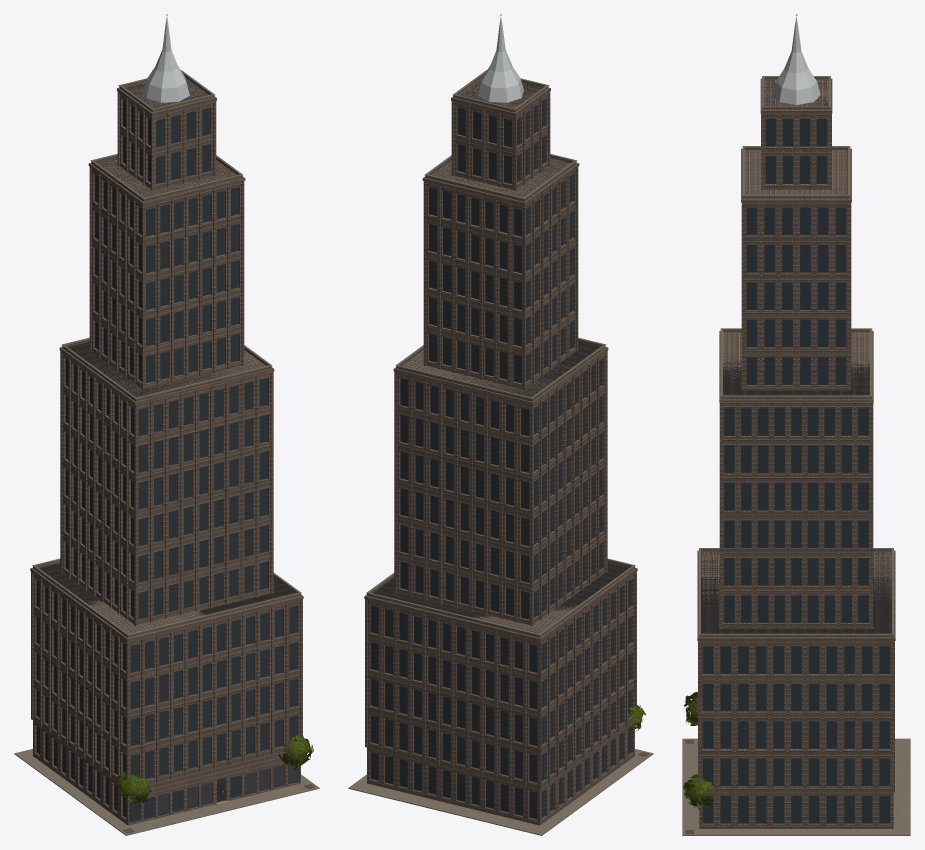
Rendered from sky_deco.glb.
3 views of the same model, side by side, from view 1: azimuth 30°, elevation 25°; view 2: azimuth 150°, elevation 25°; view 3: azimuth 270°, elevation 25° (orthographic). The views are drawn at different scales.
Visible parts, largest first — view 1: sky_deco_body, sky_deco_foliage; view 2: sky_deco_body; view 3: sky_deco_body, sky_deco_foliage.
Part boxes in pixels (x1,y1,x2,y2): sky_deco_body: (14, 14, 319, 835); sky_deco_foliage: (114, 735, 313, 805); sky_deco_body: (348, 14, 653, 835); sky_deco_body: (682, 14, 910, 835); sky_deco_foliage: (683, 692, 716, 807).
Size of the model in its own units: 0.94 by 3.51 by 0.94.
Materials: 17 (9 with a texture image).
